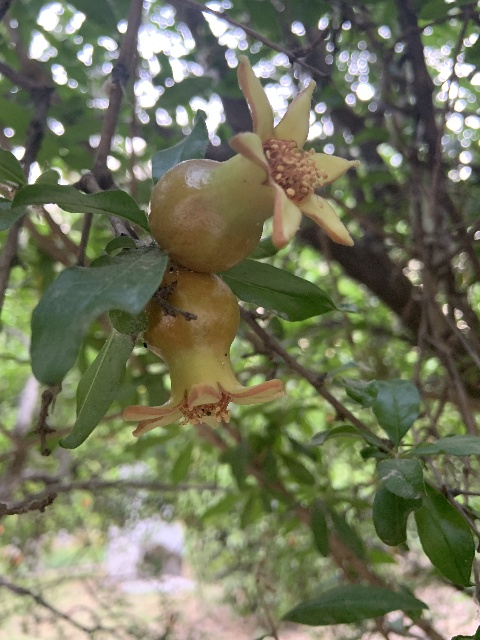early-fruit: (149, 55, 360, 273), (122, 271, 286, 435)
